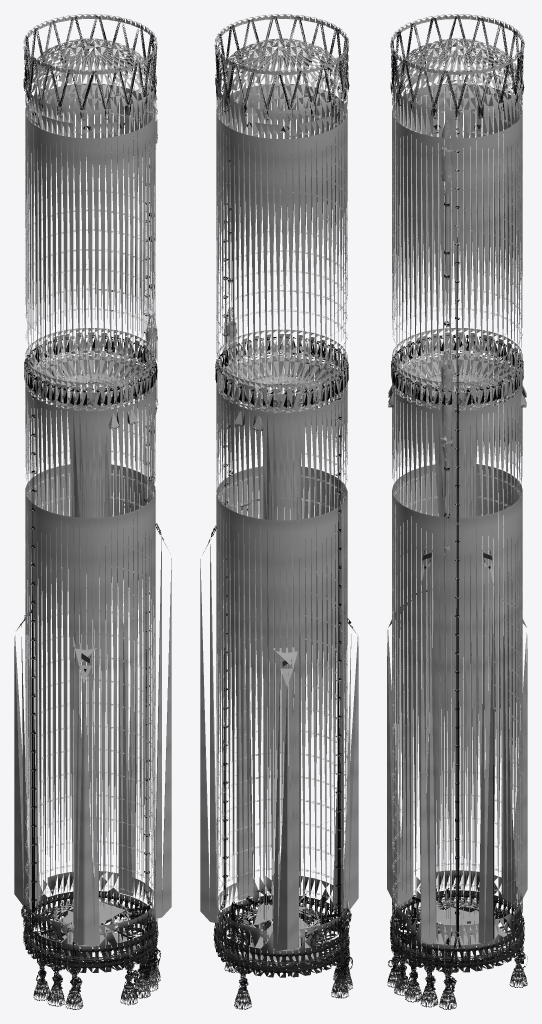
File: ESP-Starship-Part-000.obj
3 views of the same model, side by side, from view 1: azimuth 30°, elevation 25°; view 2: azimuth 150°, elevation 25°; view 3: azimuth 270°, elevation 25° (orthographic).
Parts seen in each view (by area): view 1: Booster__Superheavy_Block_3_V4_Cylinder.025; view 2: Booster__Superheavy_Block_3_V4_Cylinder.025; view 3: Booster__Superheavy_Block_3_V4_Cylinder.025.
Part boxes in pixels (x1=…): Booster__Superheavy_Block_3_V4_Cylinder.025: x1=14, y1=14, x2=171, y2=1009; Booster__Superheavy_Block_3_V4_Cylinder.025: x1=200, y1=14, x2=358, y2=1009; Booster__Superheavy_Block_3_V4_Cylinder.025: x1=387, y1=14, x2=527, y2=1009.
Size of the model in its own units: 10.05 by 71.52 by 9.72.
1 material, 1 textured.
